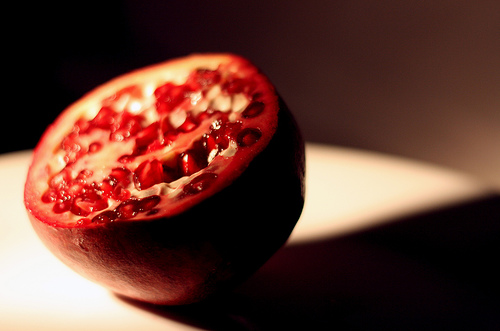pomogranate: (21, 53, 308, 304)
